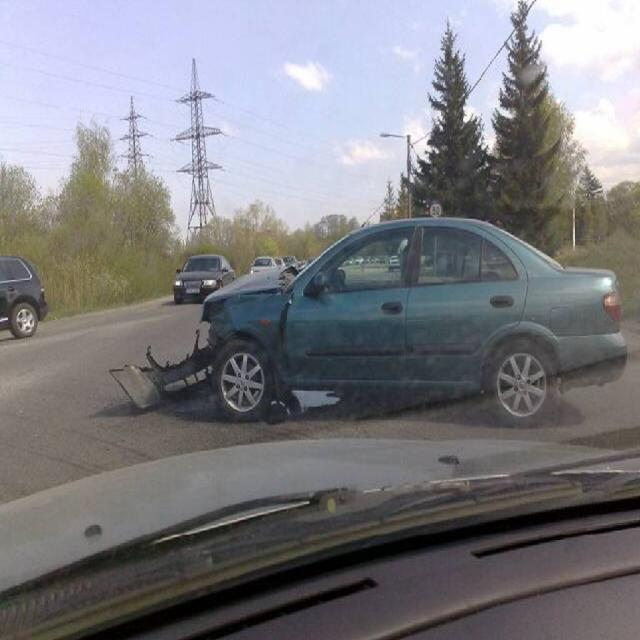car: (133, 207, 637, 428)
